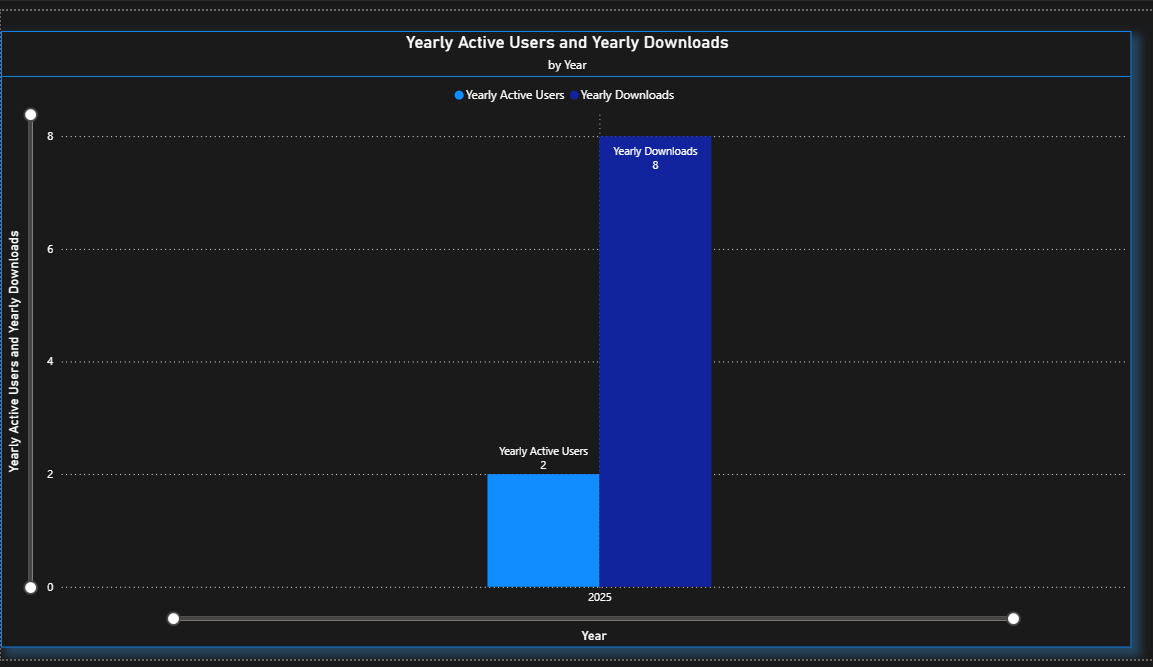

The dashboard page shown, as its layout file describes it:
{"tool":"powerbi","page":{"name":"Page 1","canvas":[1280,720],"ordinal":0},"visuals":[{"type":"clusteredColumnChart","fields":{"Y":["DateTable.Yearly Active Users","DateTable.Yearly Downloads"],"Category":["DateTable.Year"]},"box":[0,22.7,1256.3,684.9],"z":0}]}

Visuals, with their boxes in screenshot pixels (x1, y1, x2, y2), scaled from the page's 1280x720 canvas onto the 1153x667 screenshot:
clusteredColumnChart - DateTable.Yearly Active Users x DateTable.Yearly Downloads: [0,21,1132,656]
